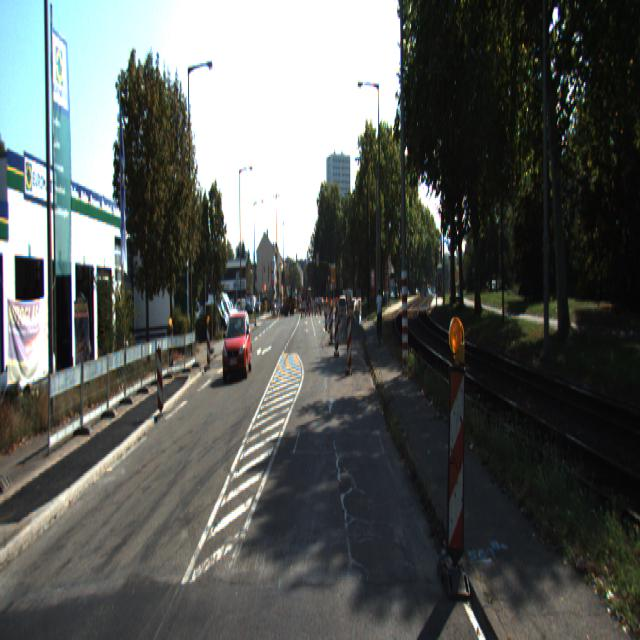Car: (220, 309, 254, 380)
